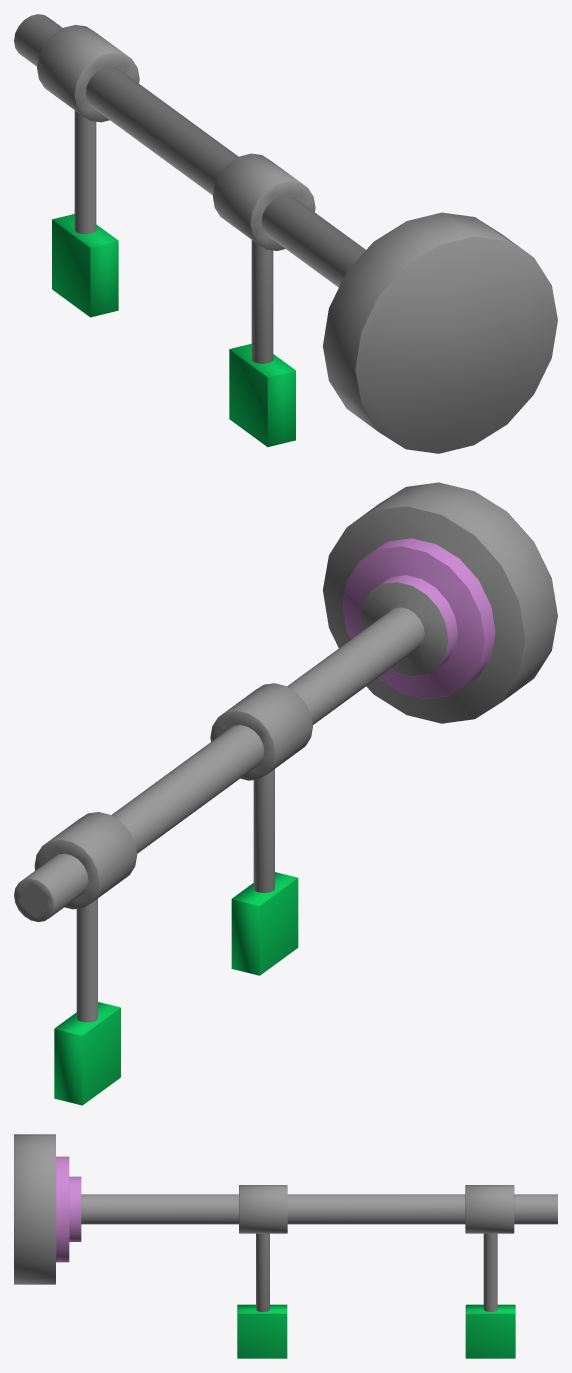
Rendered from SM_Signboard_01.fbx.
3 renders of one model, top to bottom at view 1: azimuth 30°, elevation 25°; view 2: azimuth 150°, elevation 25°; view 3: azimuth 270°, elevation 25°, orthographic. The views are drawn at different scales.
Parts seen in each view (by area): view 1: SM_Signboard_01; view 2: SM_Signboard_01; view 3: SM_Signboard_01.
Boxes of the visible parts, box(x1,y1,x2,y2) form: SM_Signboard_01: box(14, 14, 557, 453); SM_Signboard_01: box(14, 482, 557, 1105); SM_Signboard_01: box(14, 1134, 557, 1358).
Size of the model in its own units: 33.26 by 120 by 51.74.
1 material, 1 textured.
